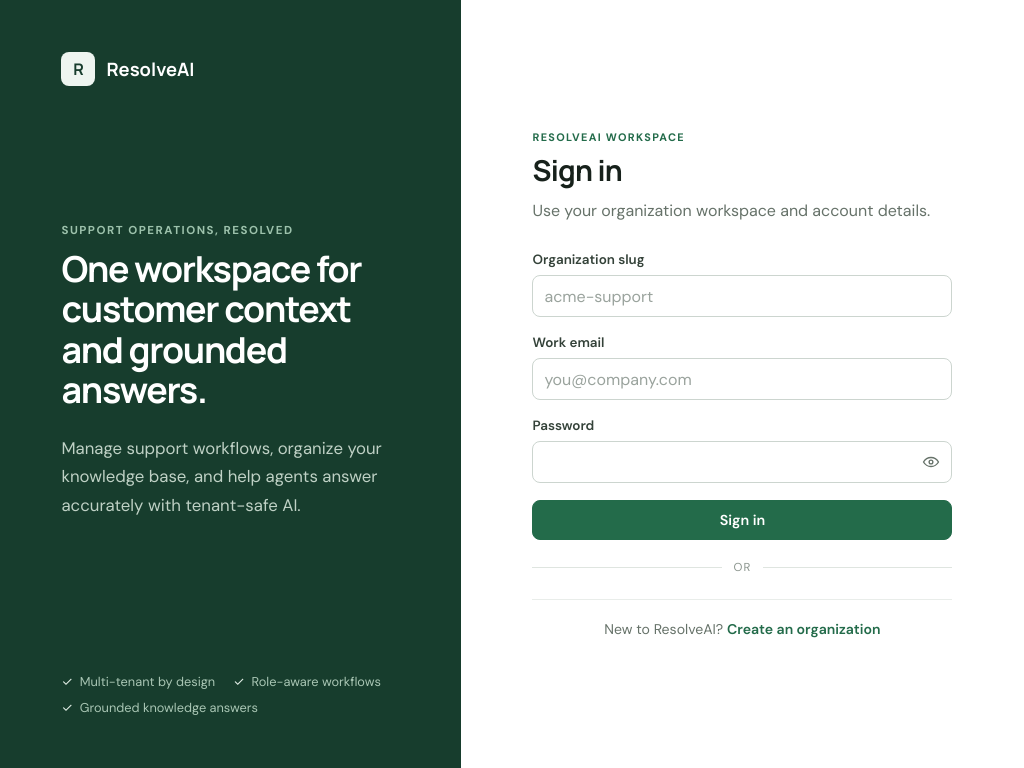
it: login password visibility toggle preserves focus and value without submitting
In the password field labelled "Password": (742, 462) [532, 441, 952, 483], type "secure-login-password"
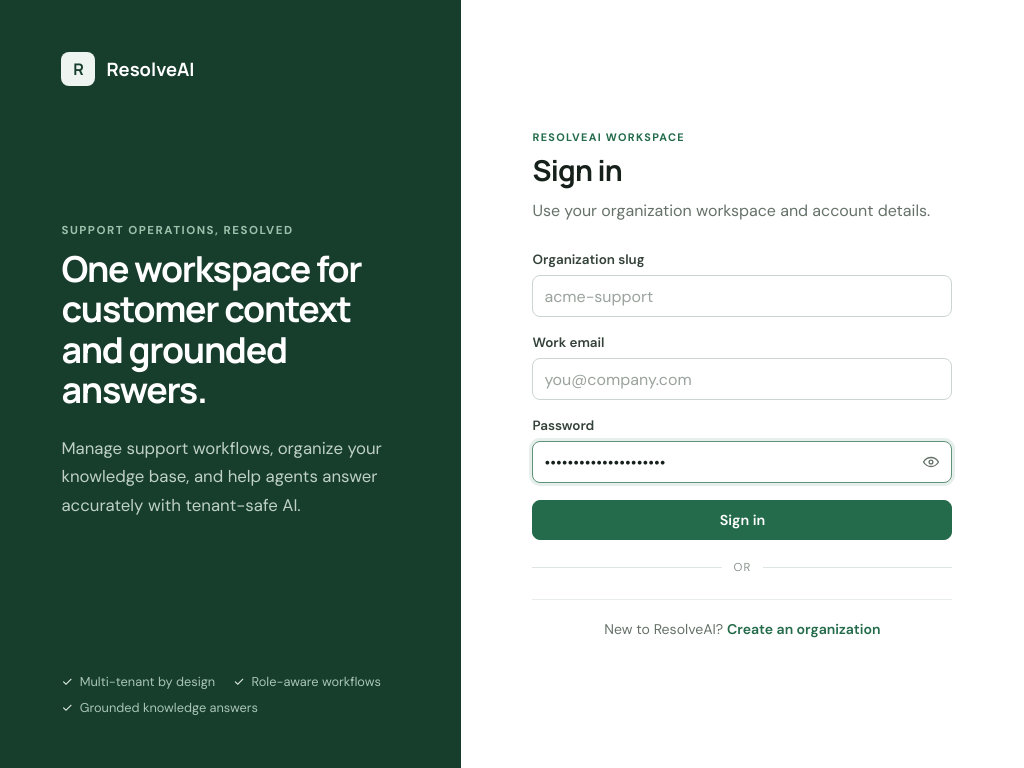
Click the button named "Show password": (931, 462) [914, 445, 948, 479]
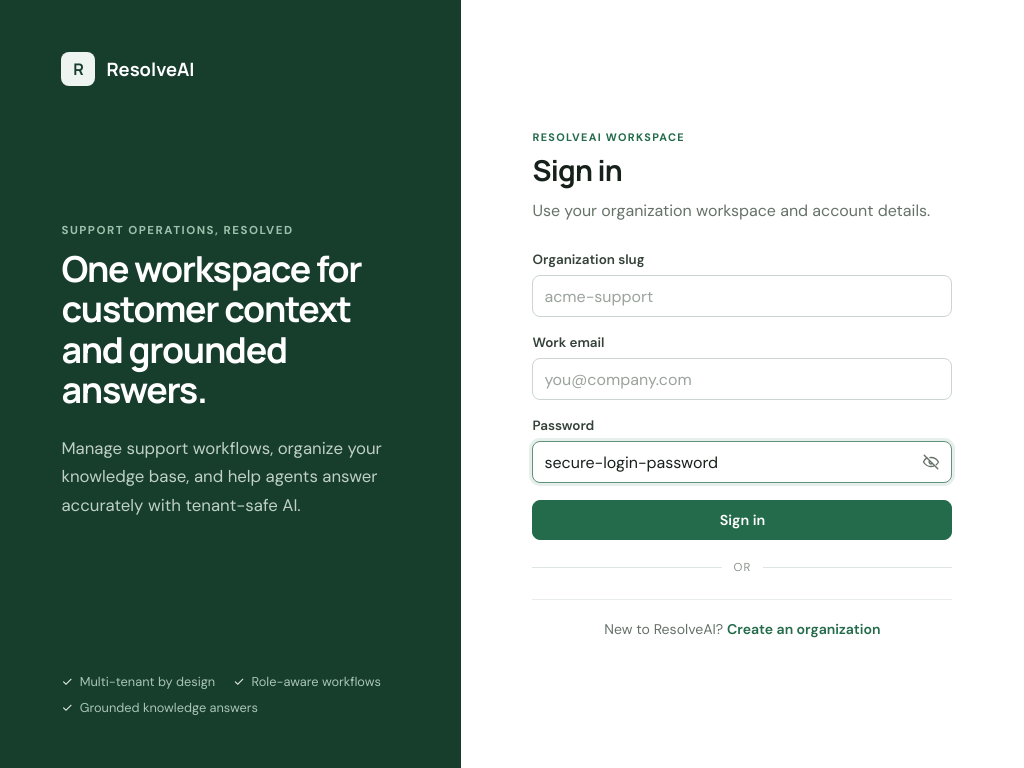
Result: the field labelled "Password" shows its text at [532, 441, 952, 483]
Click the button named "Hide password": (931, 462) [914, 445, 948, 479]
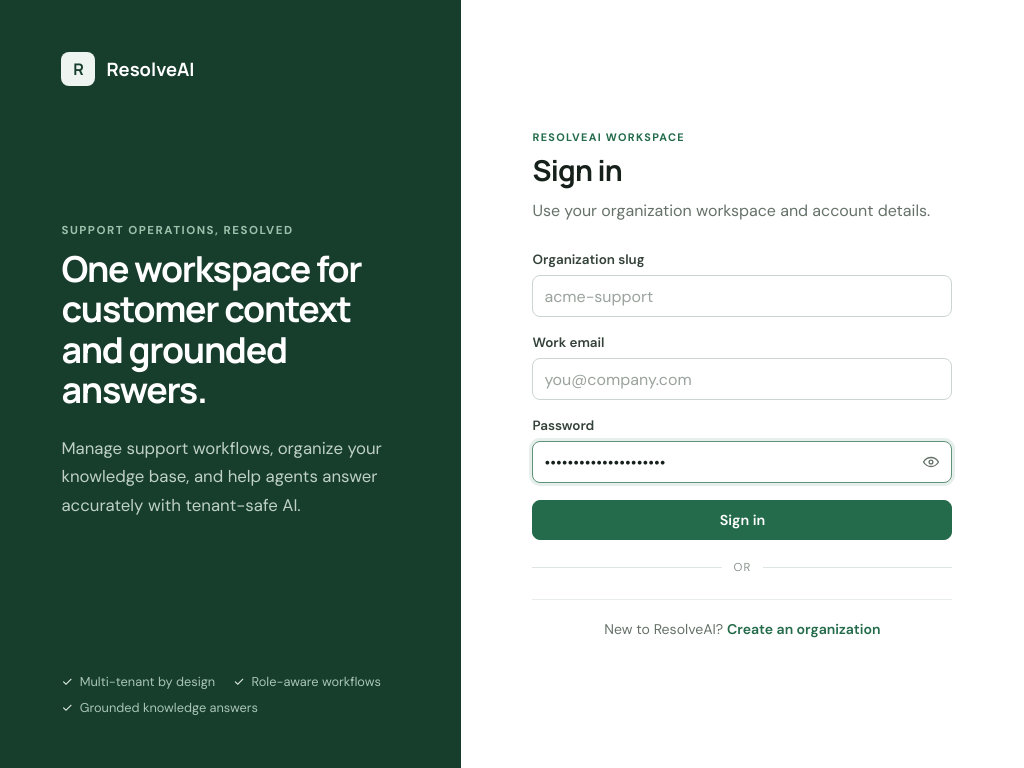
Result: the password field labelled "Password" hides its text at [532, 441, 952, 483]
